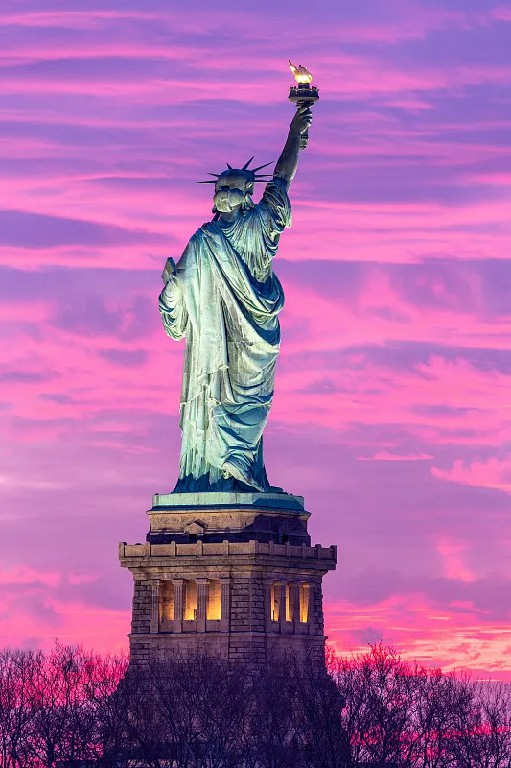SL: (101, 59, 352, 758)
